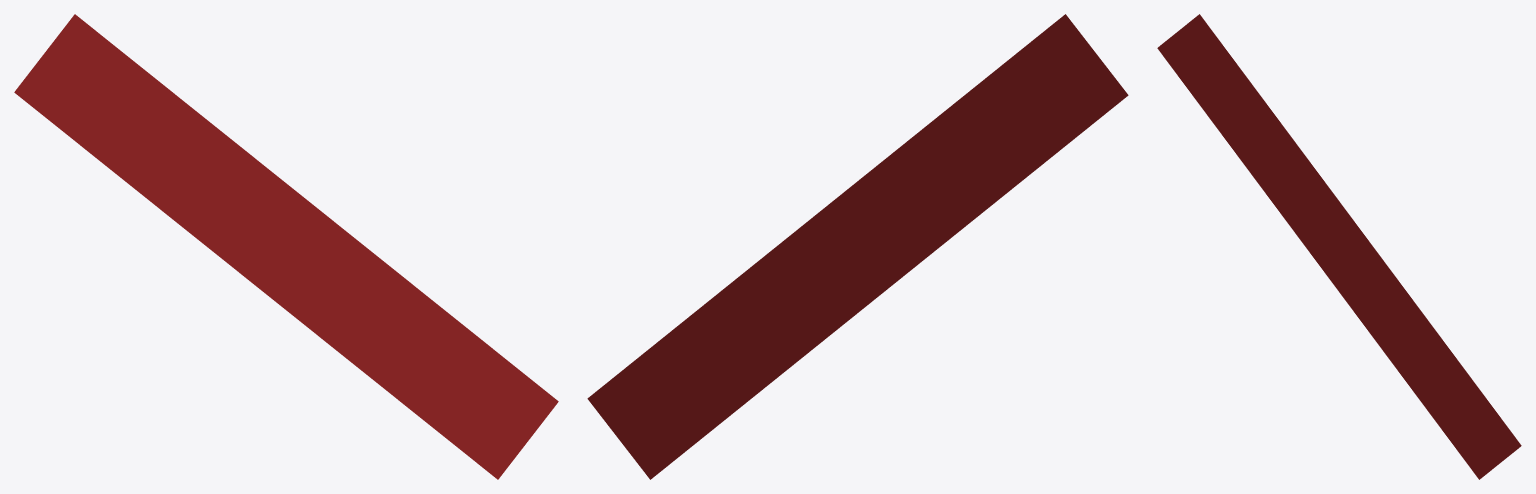
3 views of the same model, side by side, from view 1: azimuth 30°, elevation 25°; view 2: azimuth 150°, elevation 25°; view 3: azimuth 330°, elevation 25° (orthographic). The views are drawn at different scales.
Parts seen in each view (by area): view 1: X1; view 2: X1; view 3: X1.
Boxes of the visible parts, x1,y1,x2,y2 form: X1: (14, 14, 558, 479); X1: (587, 14, 1128, 479); X1: (1157, 14, 1521, 479).
Size of the model in its own units: 0.2603 by 0.2603 by 0.00971.
